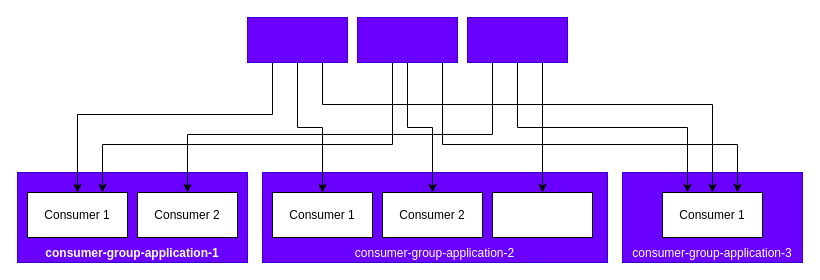
Some shapes in this 820 by 280 pixel diagram are drawn without their labels. The shapes that lost their labels are listed below. From the top down, each one's centre as x and y in pixels, then its label:
point (297, 39): Topic A Partition 0
point (407, 39): Topic A Partition 1
point (517, 39): Topic A Partition 2
point (542, 215): Consumer 3
